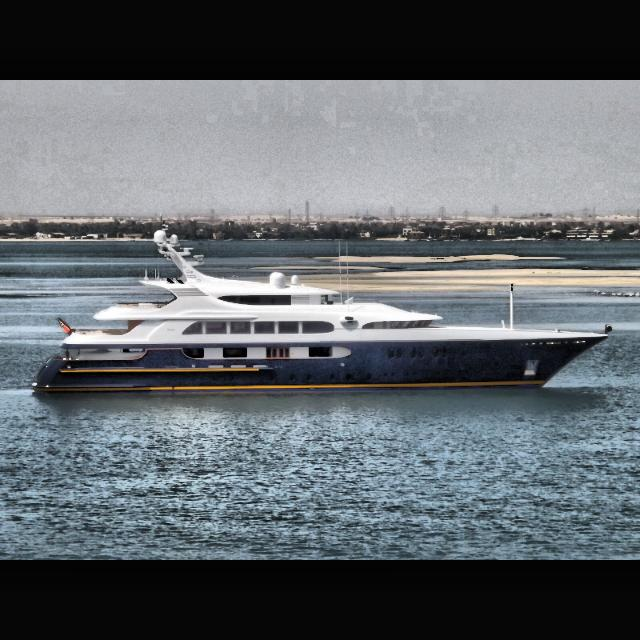yacht: (32, 228, 614, 396)
